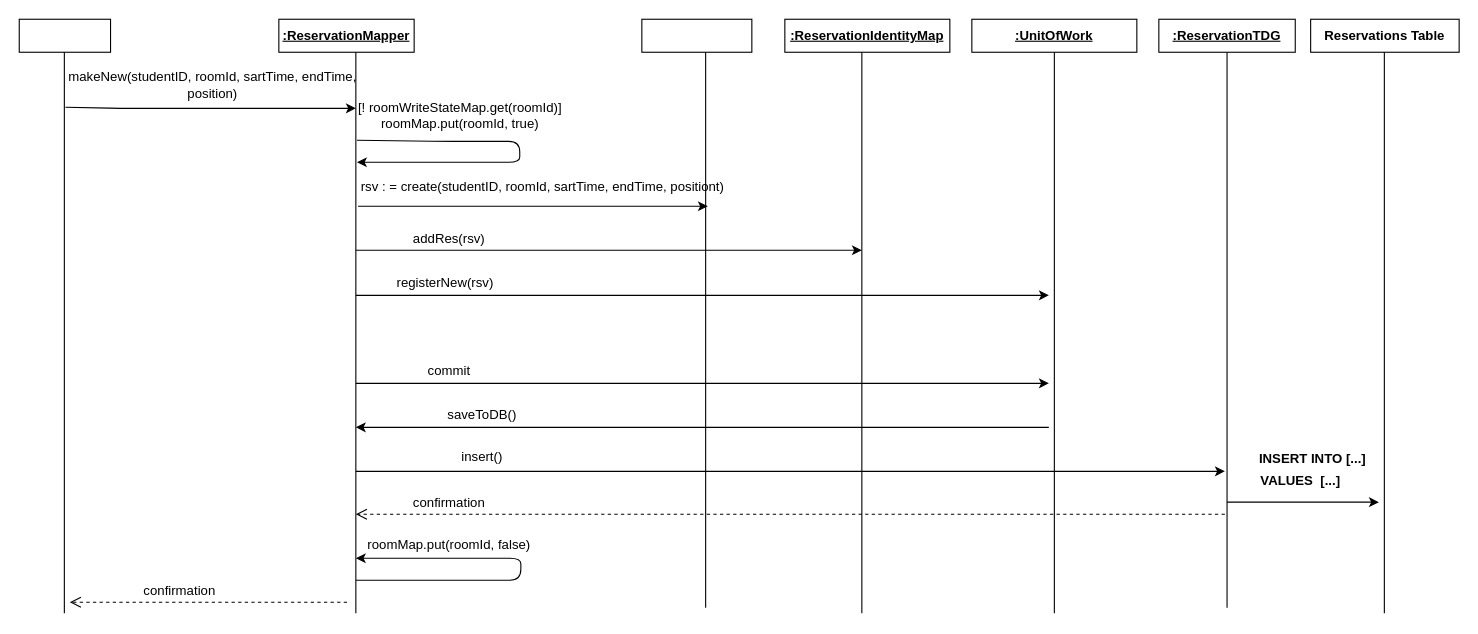
This 1478x634 diagram has some shape labels left out. The centre of each missing label's shape, as x and y in pixels:
:Console: pixel 64 35
:Reservation: pixel 696 35
